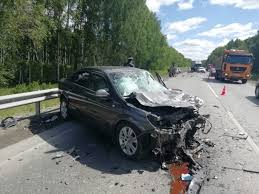car: (49, 54, 211, 165)
